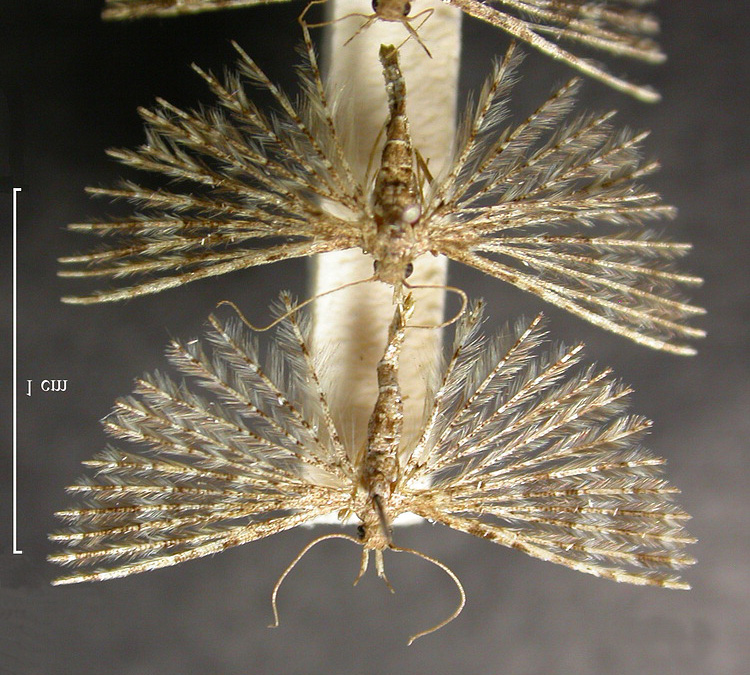Alucitidae: (39, 297, 712, 651), (40, 35, 712, 366)
moth: (41, 299, 714, 653), (42, 37, 714, 368)
